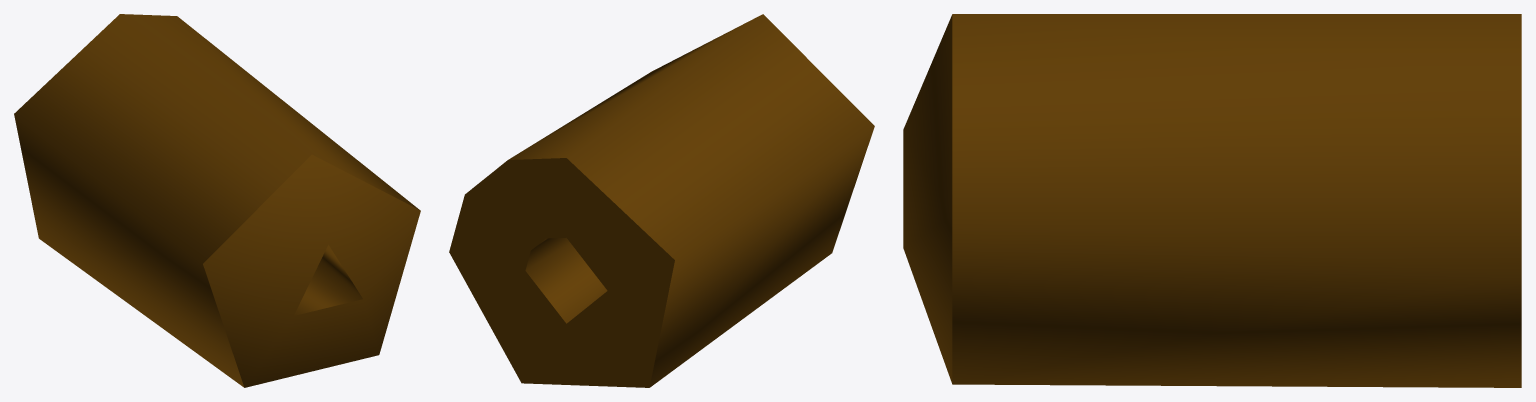
File: Pont Echappement - Palier filete.obj
3 views of the same model, side by side, from view 1: azimuth 30°, elevation 25°; view 2: azimuth 150°, elevation 25°; view 3: azimuth 270°, elevation 25° (orthographic). The views are drawn at different scales.
Visible parts, largest first — view 1: Face_1, Face_4, Face_3; view 2: Face_1, Face_2, Face_3; view 3: Face_1, Face_4.
Boxes of the visible parts, <box> form: Face_1: <box>14,14,419,387</box>; Face_4: <box>203,154,420,387</box>; Face_3: <box>294,245,362,315</box>; Face_1: <box>508,14,874,387</box>; Face_2: <box>449,158,674,387</box>; Face_3: <box>525,237,607,323</box>; Face_1: <box>952,14,1521,387</box>; Face_4: <box>903,15,952,383</box>.
Size of the model in its own units: 0.0039 by 0.00385 by 0.0063.
